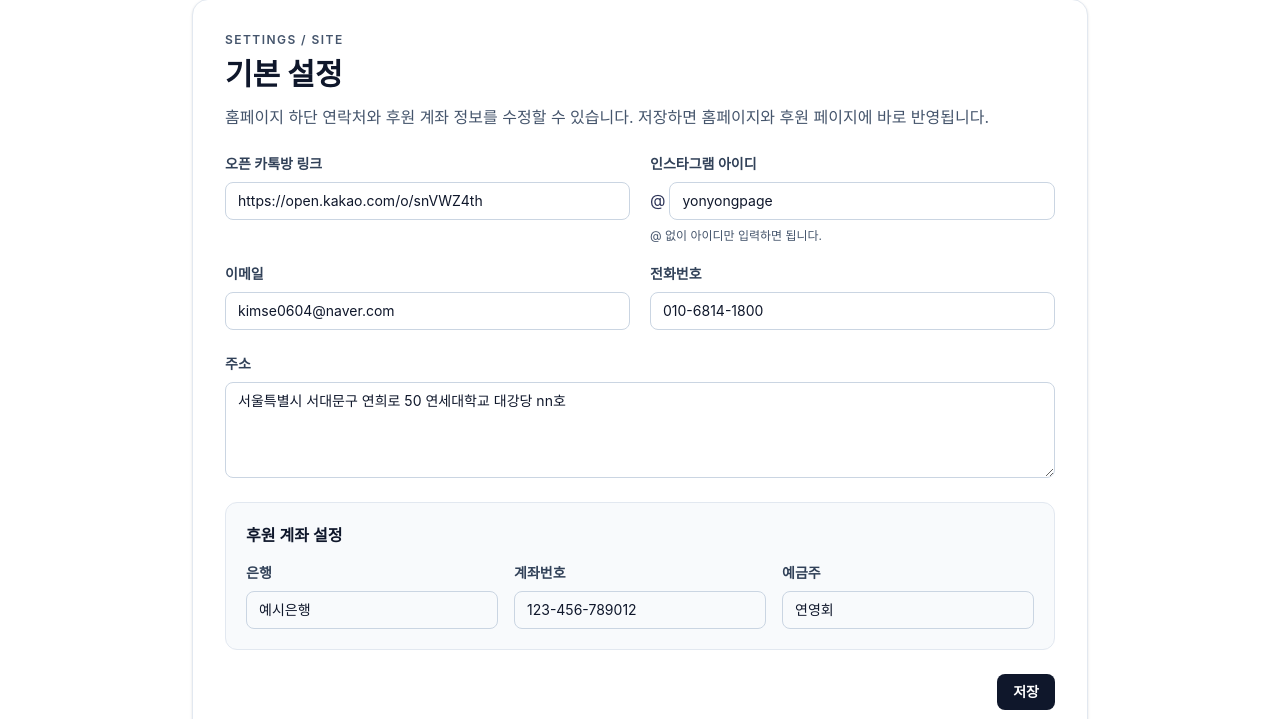
Scenario: SiteSettingsForm › shows donate account number validation error and blocks submit when format is invalid
Replace the text in the field labelled "계좌번호" with "123-45A-678" at (640, 610), box [514,591,766,629]
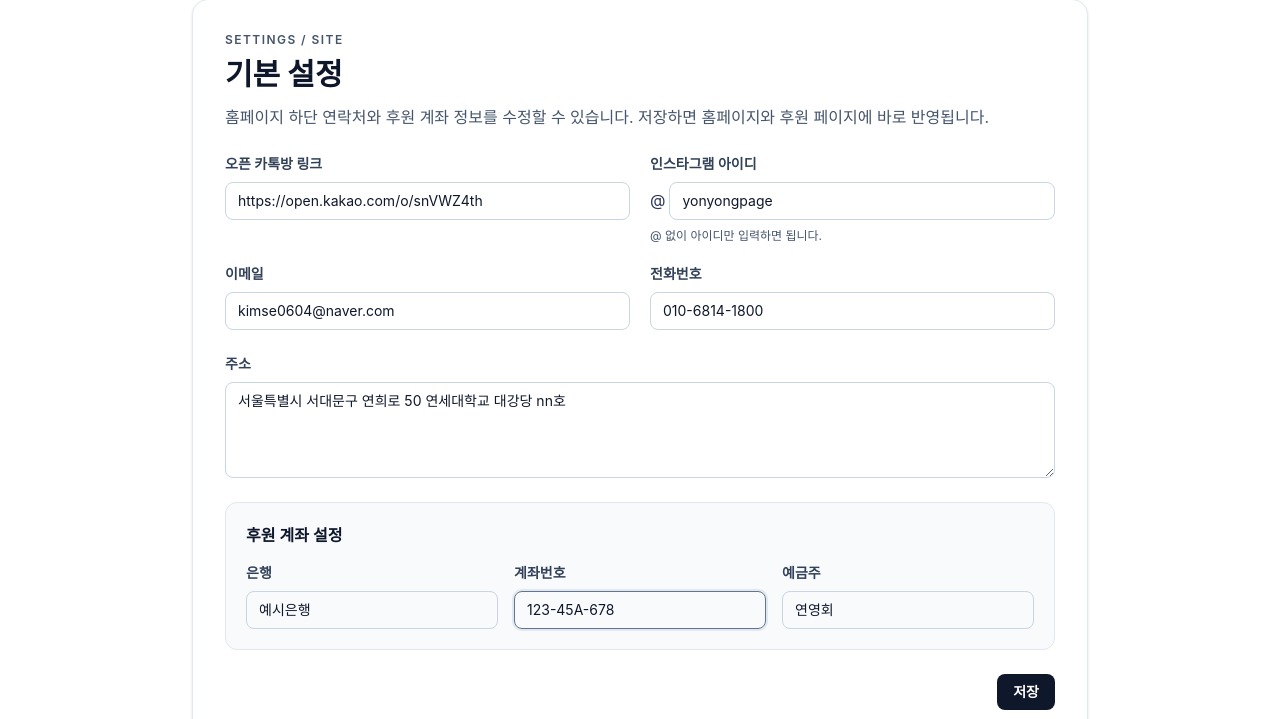
Click the button with test id "site-settings-submit" at (1026, 692), box [997,674,1055,710]
(page scrolled)
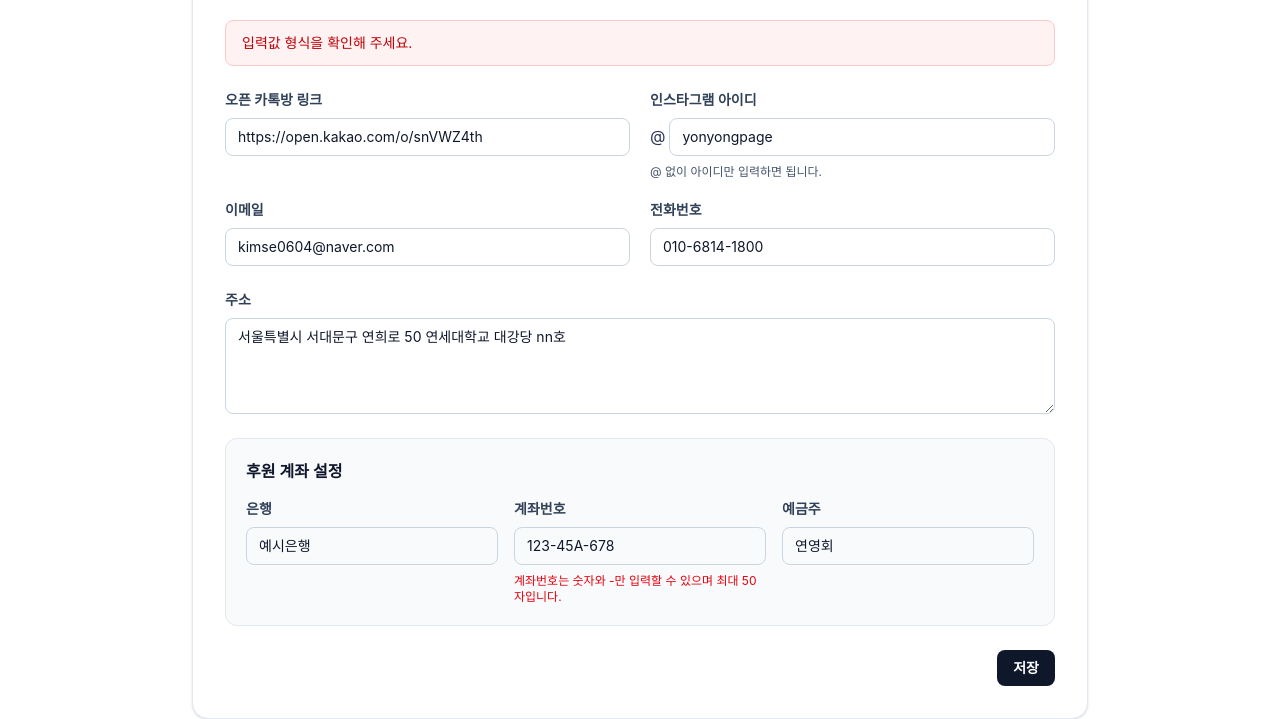
Expected: the text "계좌번호는 숫자와 -만 입력할 수 있으며 최대 50자입니다." is shown, [514,573,766,605]
